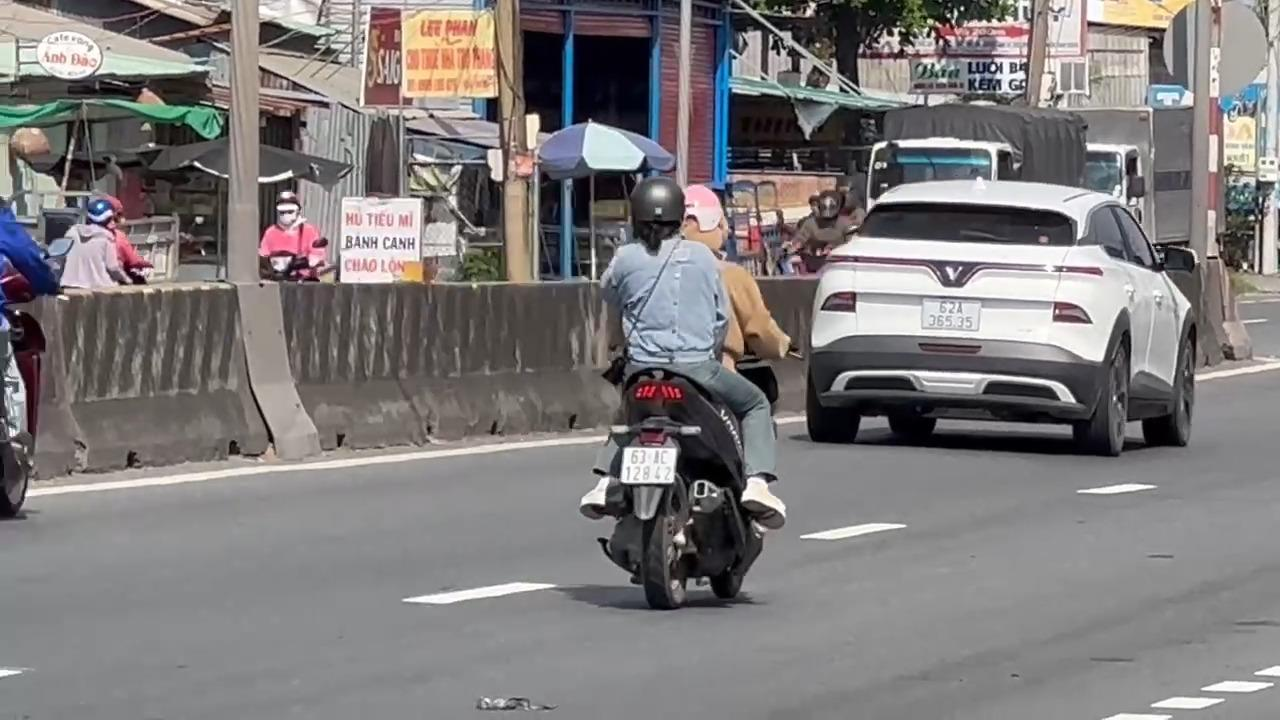bien_so: (618, 444, 677, 485), (919, 296, 981, 331)
